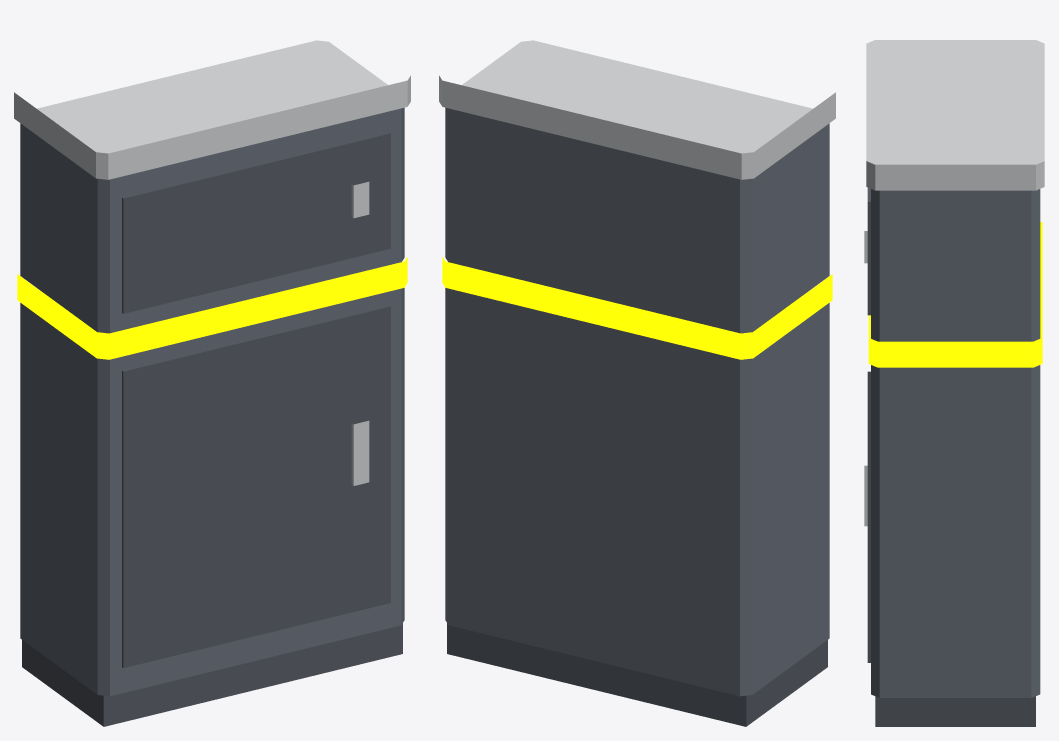
File: ext_junction_cabinet_04.glb
3 views of the same model, side by side, from view 1: azimuth 30°, elevation 25°; view 2: azimuth 150°, elevation 25°; view 3: azimuth 270°, elevation 25° (orthographic).
Parts seen in each view (by area): view 1: Doors, Body, Roof, Plinth, Hazard_Band, Pulls_Hardware; view 2: Body, Roof, Plinth, Hazard_Band; view 3: Body, Roof, Hazard_Band, Plinth, Doors, Pulls_Hardware.
Boxes of the visible parts, bbox=[...] form: Doors: bbox=[122, 133, 390, 668]; Body: bbox=[20, 107, 404, 696]; Roof: bbox=[14, 40, 410, 179]; Plinth: bbox=[22, 623, 402, 726]; Hazard_Band: bbox=[17, 257, 407, 359]; Pulls_Hardware: bbox=[351, 181, 369, 485]; Body: bbox=[445, 107, 829, 696]; Roof: bbox=[439, 40, 835, 179]; Plinth: bbox=[447, 623, 827, 726]; Hazard_Band: bbox=[442, 257, 832, 359]; Body: bbox=[871, 189, 1040, 697]; Roof: bbox=[866, 40, 1044, 190]; Hazard_Band: bbox=[868, 221, 1042, 367]; Plinth: bbox=[875, 696, 1035, 726]; Doors: bbox=[867, 187, 870, 662]; Pulls_Hardware: bbox=[864, 231, 867, 526].
Size of the model in its own units: 0.8 by 1.4 by 0.405.
